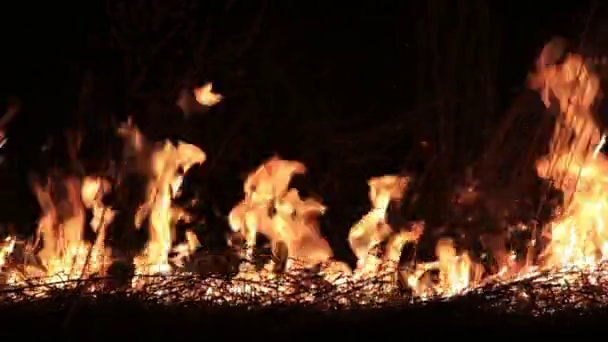fire: (531, 55, 608, 282), (227, 159, 332, 299), (130, 142, 204, 286), (25, 175, 110, 295), (349, 176, 407, 299), (410, 239, 483, 300), (197, 84, 219, 106), (1, 235, 13, 266), (6, 270, 23, 287)
